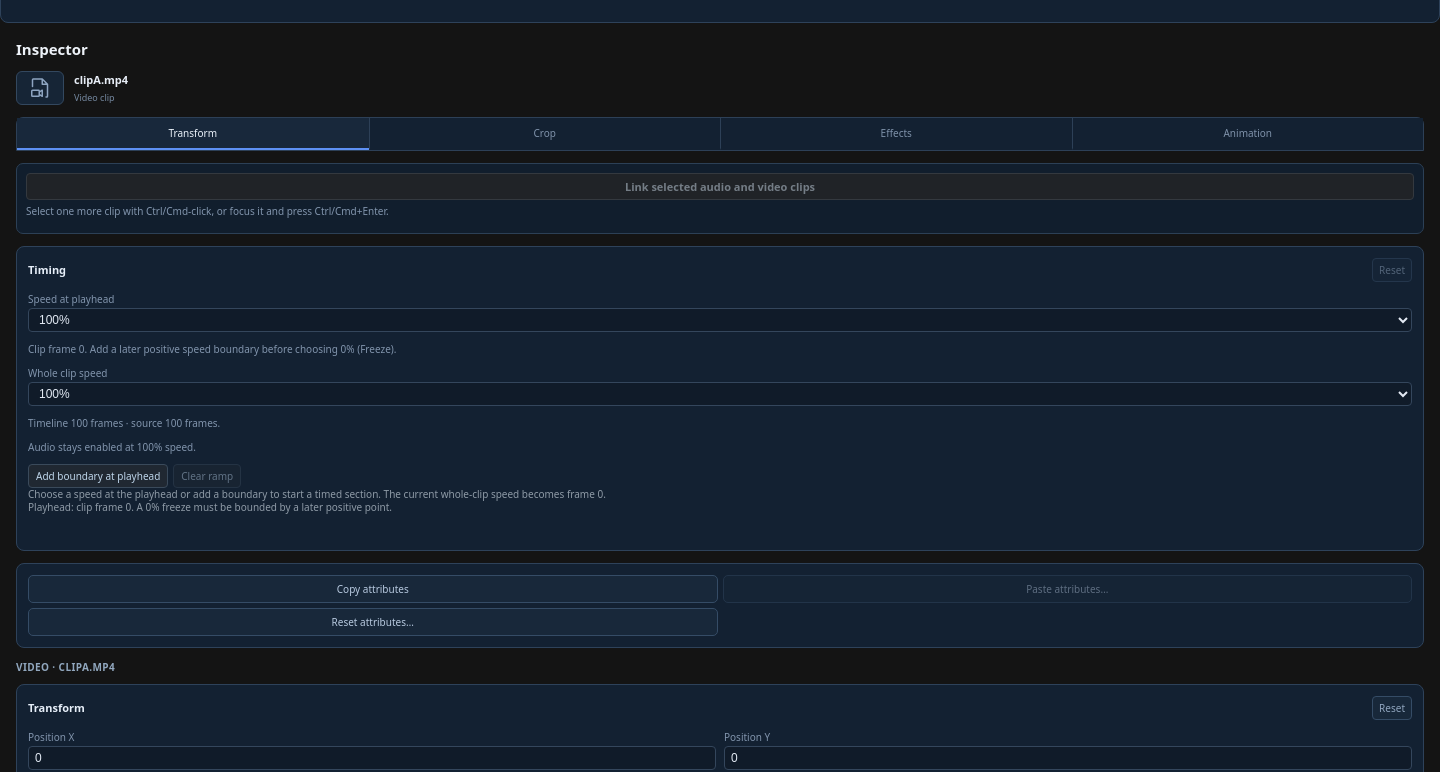
Inspector › reports unavailable preview capability without assuming export capability
Step 1. Click the tab "Effects" → (896, 134), box [720,118,1072,150]
(page scrolled)
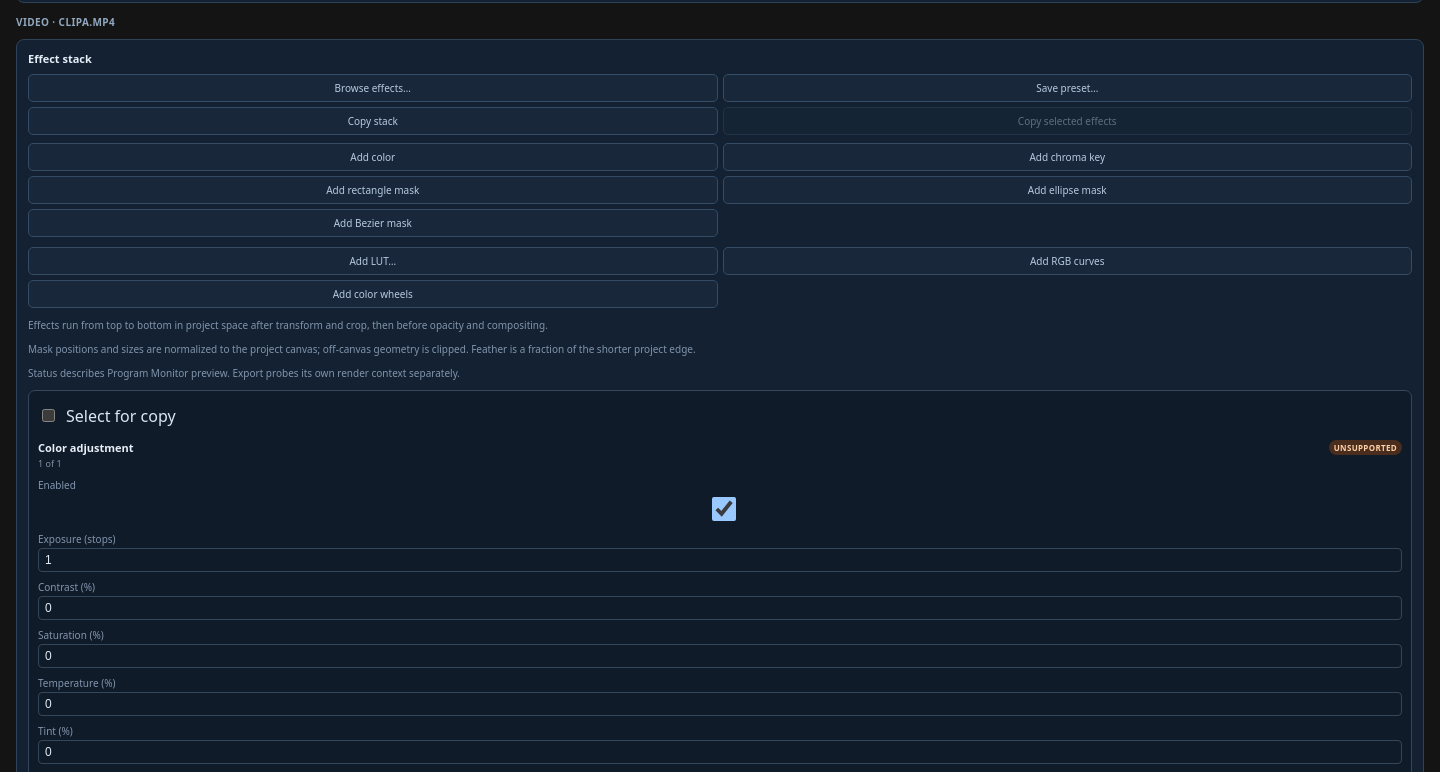
Now the text named "Effect status: unsupported" is shown, box [1329,440,1402,454]
Now the text "Export probes its own render context separately" is shown, box [28,366,460,380]
